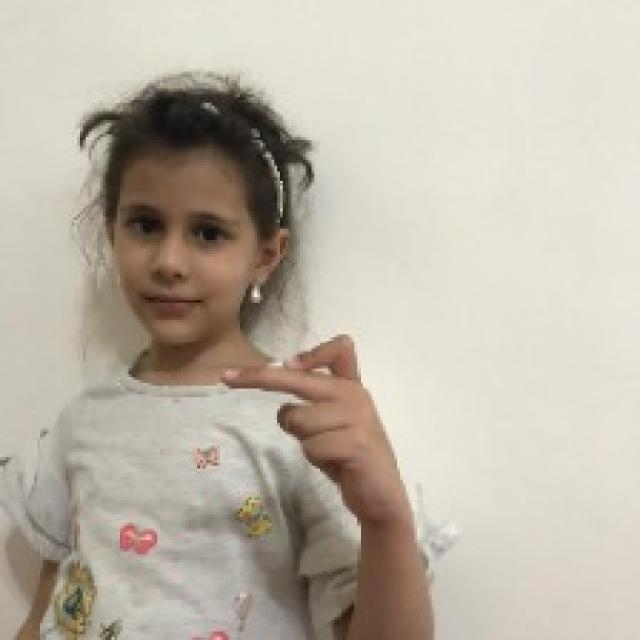sunday: (216, 328, 398, 506)
